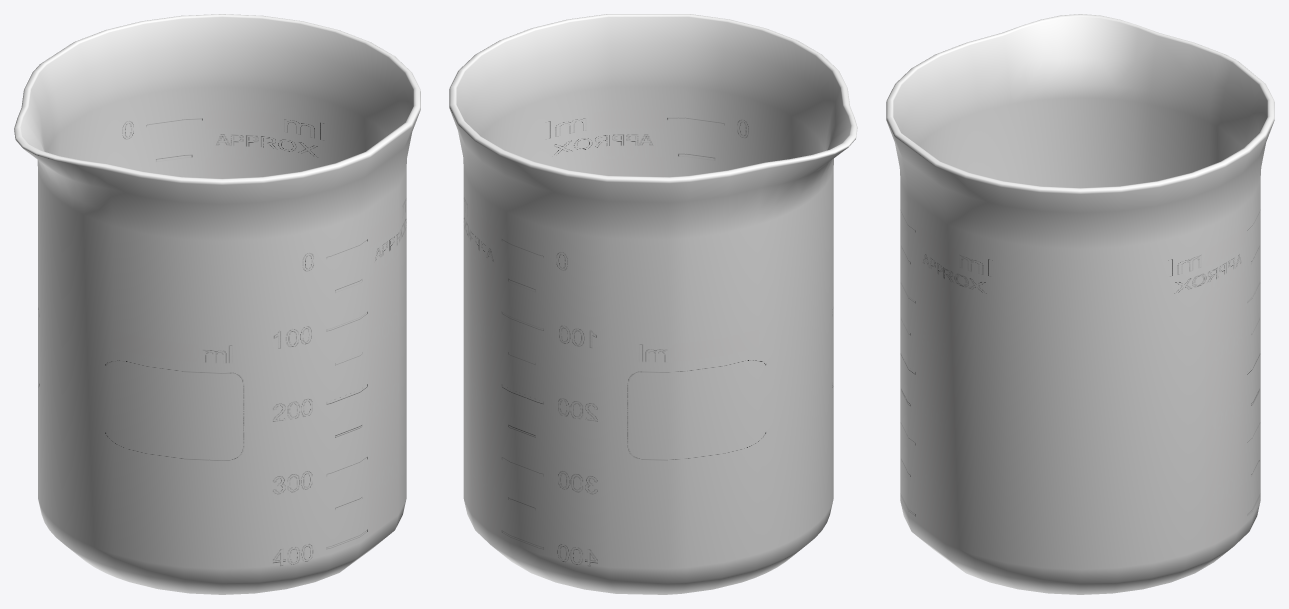
File: chemical_beaker_1000ml.FBX
The picture shows the model from 3 angles, left to right: view 1: azimuth 30°, elevation 25°; view 2: azimuth 150°, elevation 25°; view 3: azimuth 270°, elevation 25°; orthographic projection. The views are drawn at different scales.
Parts seen in each view (by area): view 1: chemical_beaker_1000ml; view 2: chemical_beaker_1000ml; view 3: chemical_beaker_1000ml.
Part boxes in pixels (x1=…): chemical_beaker_1000ml: x1=14, y1=14, x2=420, y2=594; chemical_beaker_1000ml: x1=449, y1=14, x2=857, y2=594; chemical_beaker_1000ml: x1=886, y1=14, x2=1274, y2=594.
Bounding box in the file's own units: 13.93 × 15.52 × 12.85.
Materials: 1 (1 with a texture image).
